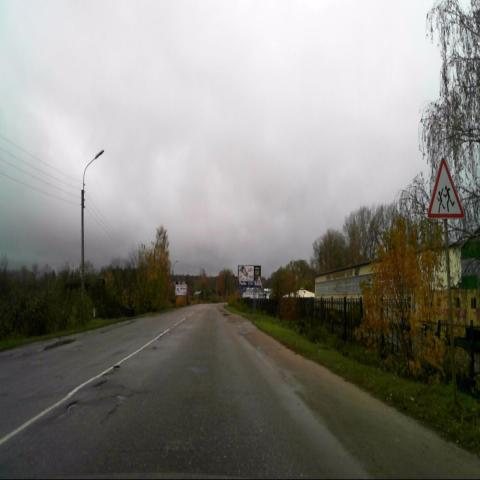1_23: (427, 157, 465, 221)
